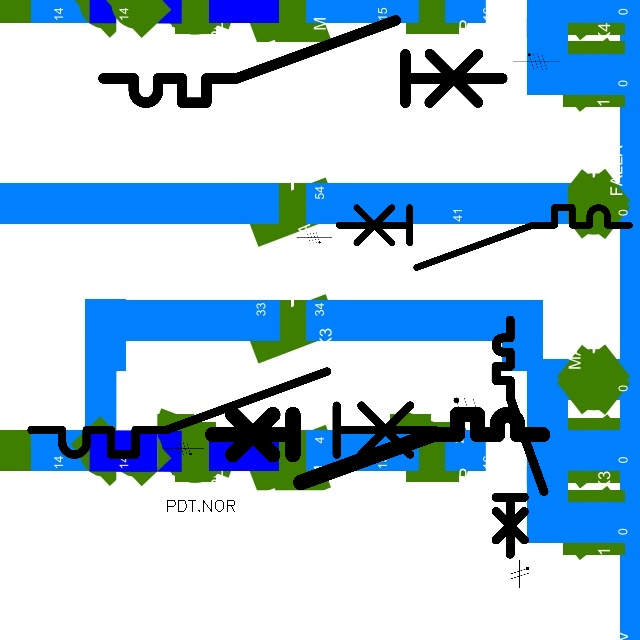interruptor_termomagnetico: (21, 361, 445, 465), (93, 10, 513, 113), (204, 406, 551, 491), (331, 200, 637, 275), (490, 314, 550, 560)
